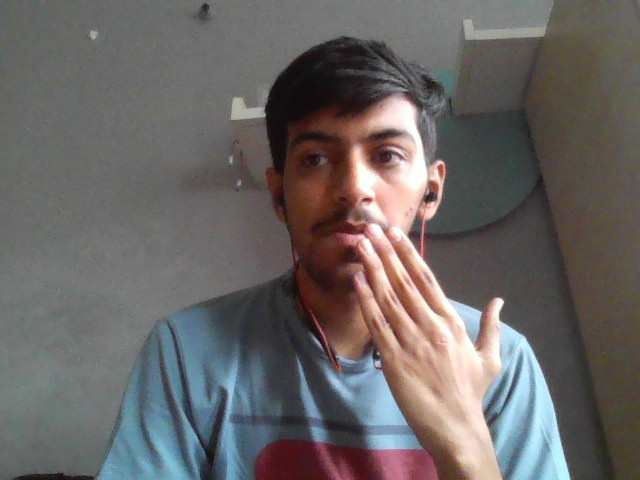Thank You: (342, 214, 516, 456)
